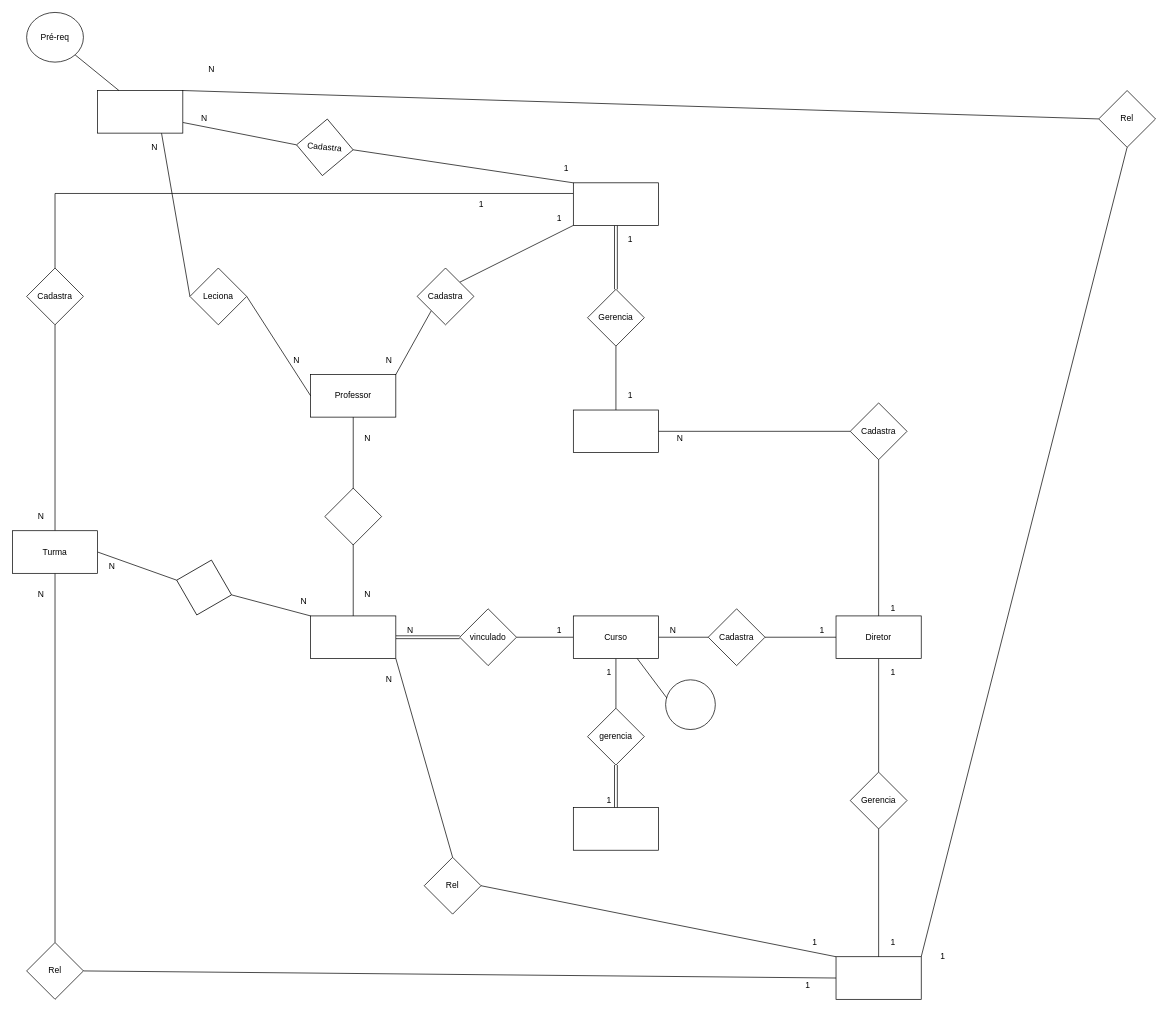
This 1168x1012 diagram has some shape labels left out. The shapes that lost their labels are listed below. From the top down, each one's centre as x and y in pixels, then its label:
the point at 140,111: Matéria
the point at 616,203: Coord.Departamento
the point at 616,431: Departamento
the point at 353,516: Aloca notas
the point at 204,587: Inscreve
the point at 353,637: Aluno
the point at 690,704: Qtd.Alunos
the point at 616,828: Coord.Curso
the point at 878,977: Período Letivo
